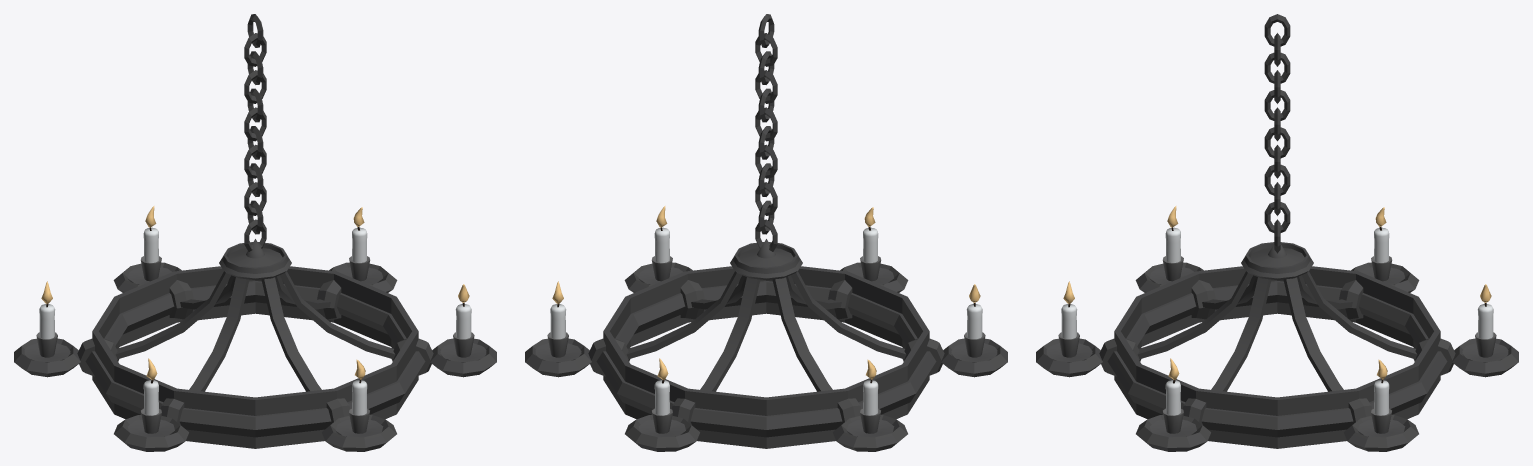
Rendered from CandleChandelier_A.fbx.
3 views of the same model, side by side, from view 1: azimuth 30°, elevation 25°; view 2: azimuth 150°, elevation 25°; view 3: azimuth 270°, elevation 25° (orthographic).
Visible parts, largest first — view 1: CandleChandelier_A; view 2: CandleChandelier_A; view 3: CandleChandelier_A.
Part boxes in pixels (x1,y1,x2,y2): CandleChandelier_A: [14, 14, 496, 451]; CandleChandelier_A: [525, 14, 1007, 451]; CandleChandelier_A: [1036, 14, 1518, 451].
Bounding box in the file's own units: 228 × 214 × 256.
